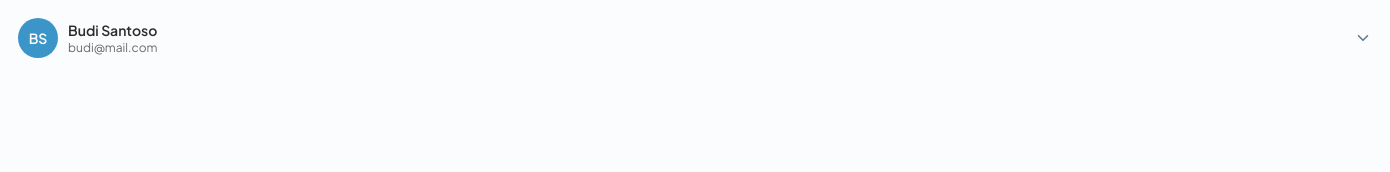
SidebarAccountMenu › Esc menutup menu dan fokus kembali ke tombol
Click the button named "Menu akun": (60, 49) [12, 12, 1378, 64]
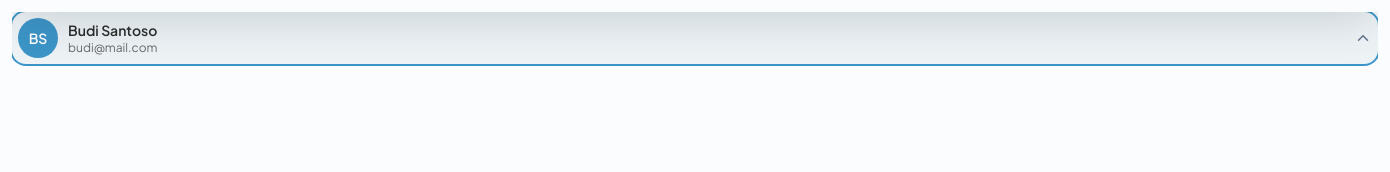
Press Escape
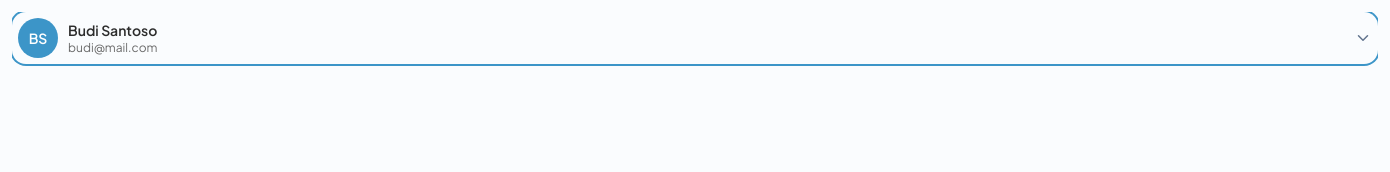
Now the link "Pengaturan akun" is gone
Now the button named "Menu akun" is collapsed, box [12, 12, 1378, 64]
